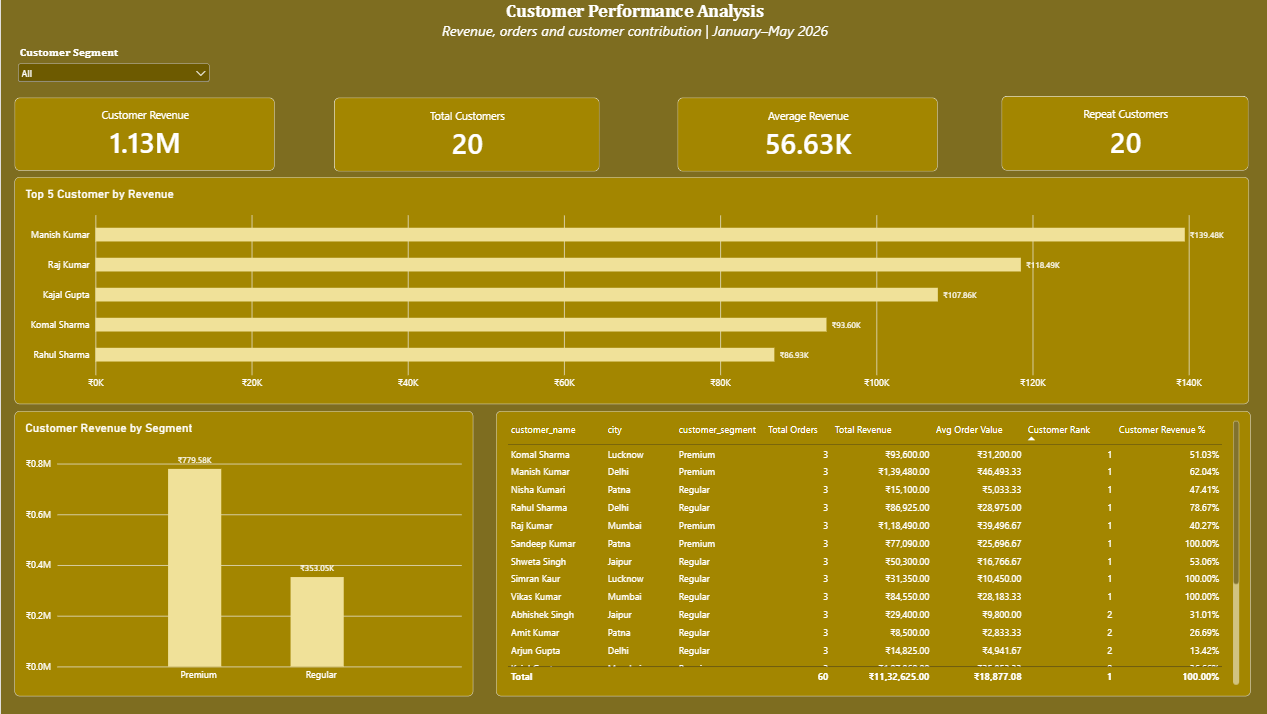

Layout of this report page (visuals, bound fields, positions):
{"tool":"powerbi","page":{"name":"Customer Analysis","canvas":[1920,1080],"ordinal":1},"visuals":[{"type":"textbox","box":[0,0,1920,67.5],"z":0},{"type":"cardVisual","fields":{"Data":["sales.Customer Revenue"]},"box":[20.2,148.5,394.9,111.1],"z":1000},{"type":"cardVisual","fields":{"Data":["sales.Total Customers"]},"box":[505.1,147.5,402,112.1],"z":2000},{"type":"cardVisual","fields":{"Data":["sales.Average Revenue"]},"box":[1023.2,147.5,394.9,112.1],"z":3000},{"type":"cardVisual","fields":{"Data":["sales.Repeat Customers"]},"box":[1515.2,146.5,374.7,113.1],"z":4000},{"type":"clusteredBarChart","title":"Top 5 Customer by Revenue","fields":{"Category":["customers.customer_name"],"Y":["sales.Total Revenue"]},"box":[21.4,268.4,1869.4,343.9],"z":5000},{"type":"clusteredColumnChart","title":"Customer Revenue by Segment","fields":{"Category":["customers.customer_segment"],"Y":["sales.Total Revenue"]},"box":[21.6,622.2,694.9,432.3],"z":6000},{"type":"tableEx","fields":{"Values":["customers.customer_name","customers.city","customers.customer_segment","sales.Total Orders","sales.Total Revenue","sales.Avg Order Value","sales.Customer Rank","sales.Customer Revenue %"]},"box":[748.5,622.2,1142.4,432.3],"z":7000},{"type":"slicer","fields":{"Values":["customers.customer_segment"]},"box":[20.2,67.7,300,67.5],"z":8000}]}

Visuals, with their boxes in screenshot pixels (x1, y1, x2, y2), scaled from the page's 1920x1080 canvas onto the 1267x714 screenshot:
textbox: detection(0, 0, 1266, 45)
cardVisual - sales.Customer Revenue: detection(13, 98, 274, 172)
cardVisual - sales.Total Customers: detection(333, 98, 599, 172)
cardVisual - sales.Average Revenue: detection(675, 98, 936, 172)
cardVisual - sales.Repeat Customers: detection(1000, 97, 1247, 172)
"Top 5 Customer by Revenue" clusteredBarChart: detection(14, 177, 1248, 405)
"Customer Revenue by Segment" clusteredColumnChart: detection(14, 411, 473, 697)
tableEx - customers.customer_name x customers.city: detection(494, 411, 1248, 697)
slicer - customers.customer_segment: detection(13, 45, 211, 89)
